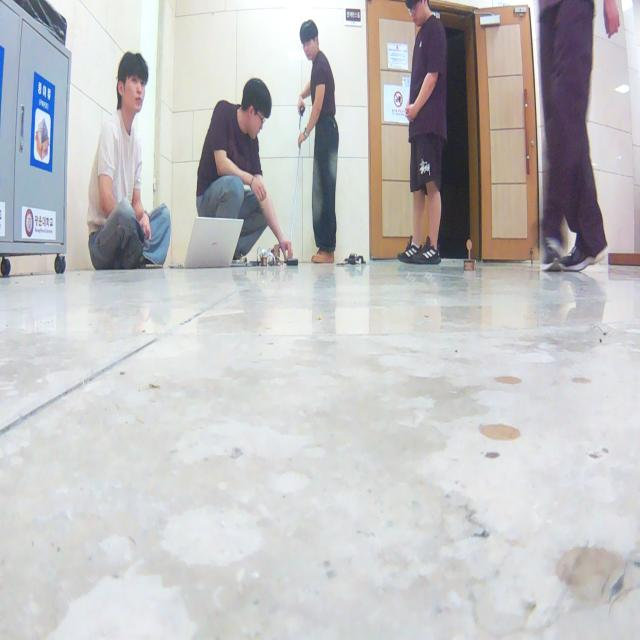target: (464, 239, 476, 271)
